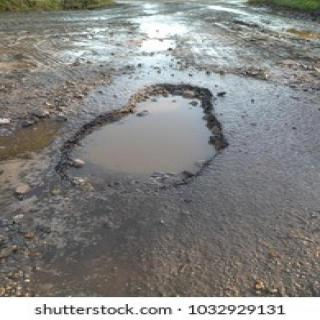pothole: (54, 84, 228, 186)
